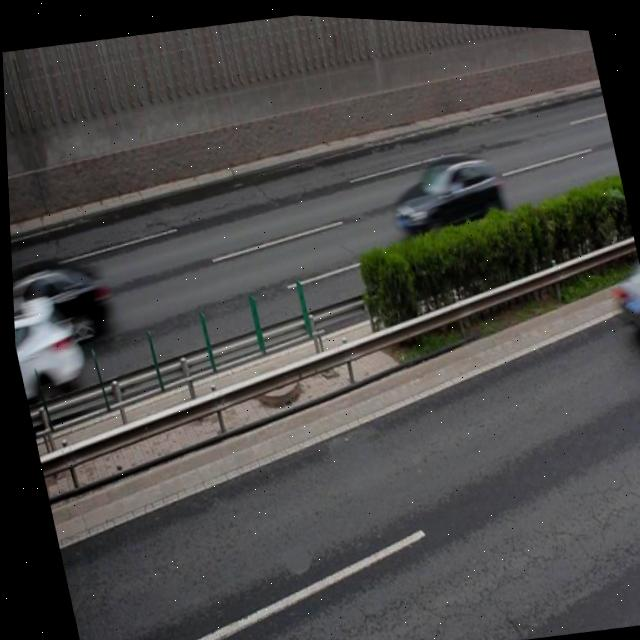car: (381, 145, 505, 233), (9, 250, 113, 353), (10, 286, 84, 411), (603, 247, 640, 338)
